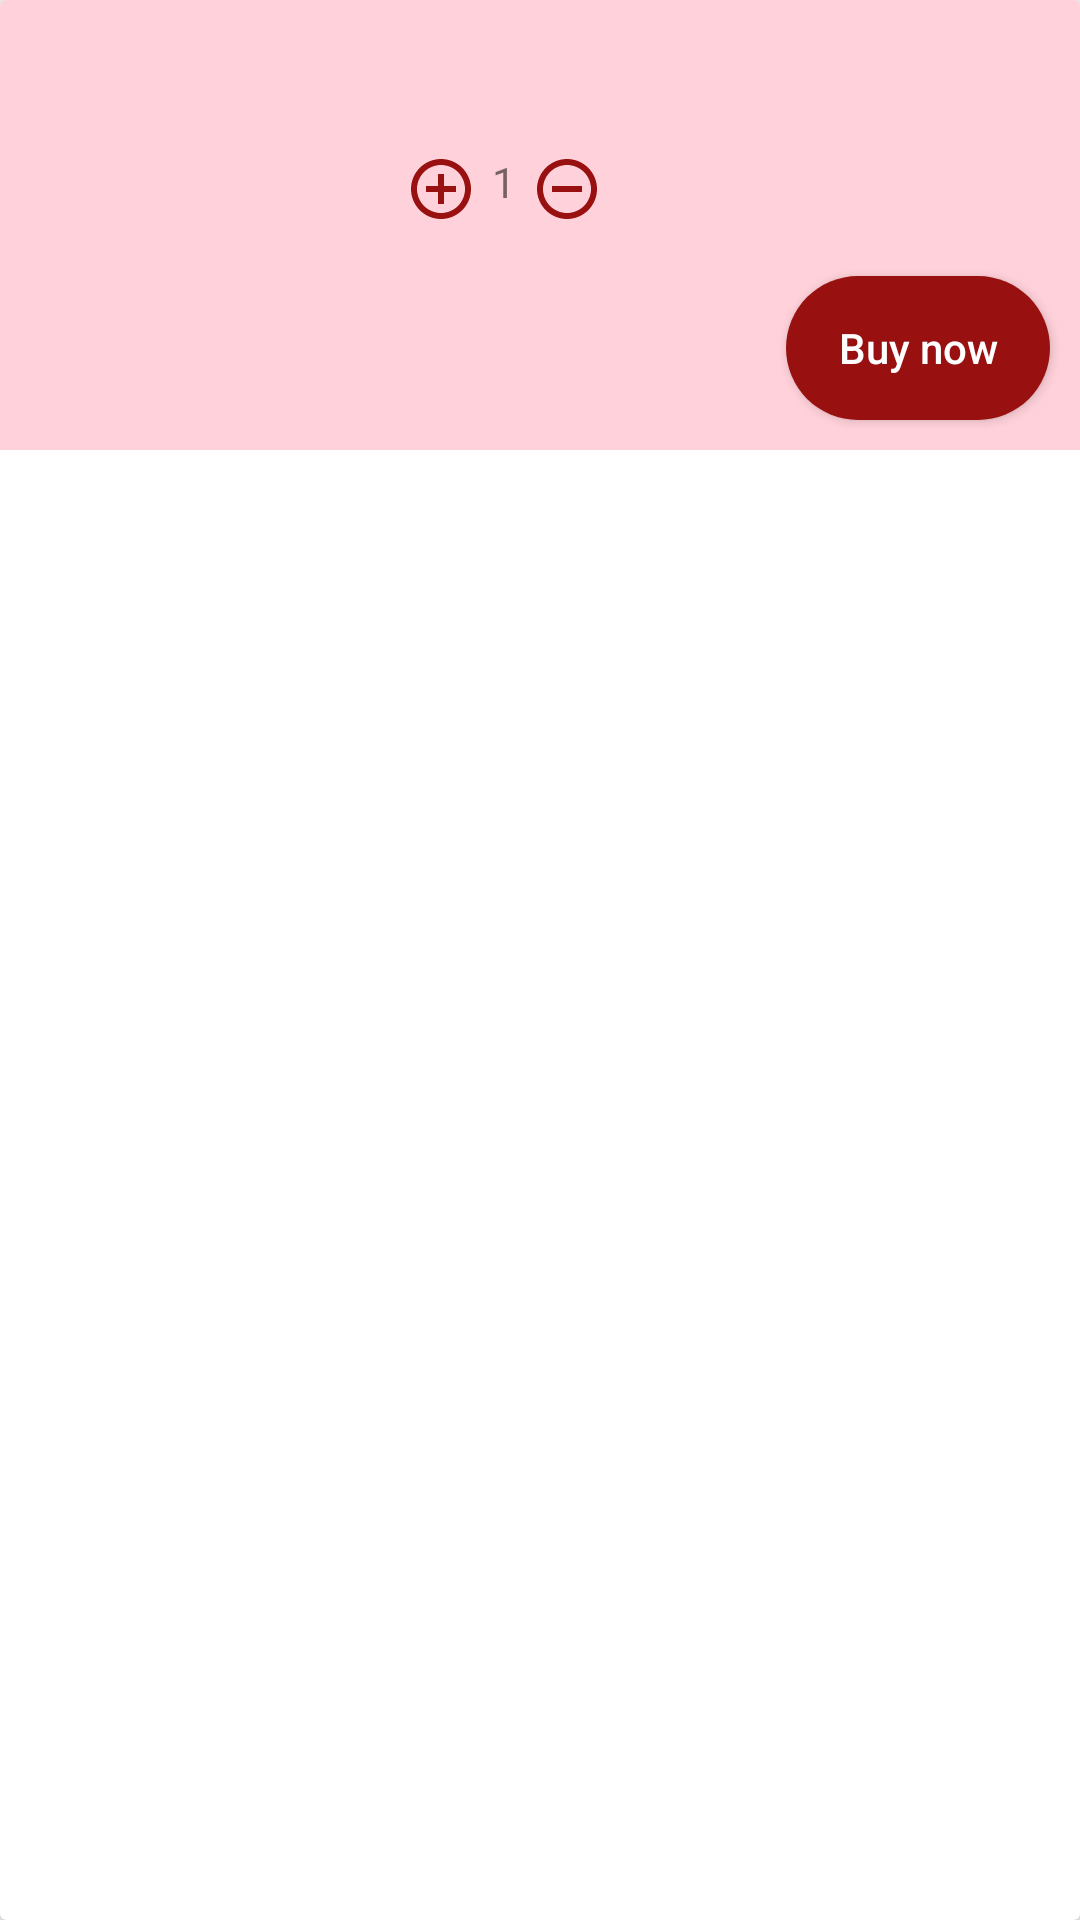

Icon click points for this 1080 x 1920 phone screenshot, format point (x, y):
add circle: point (441, 189)
remove circle: point (567, 189)
